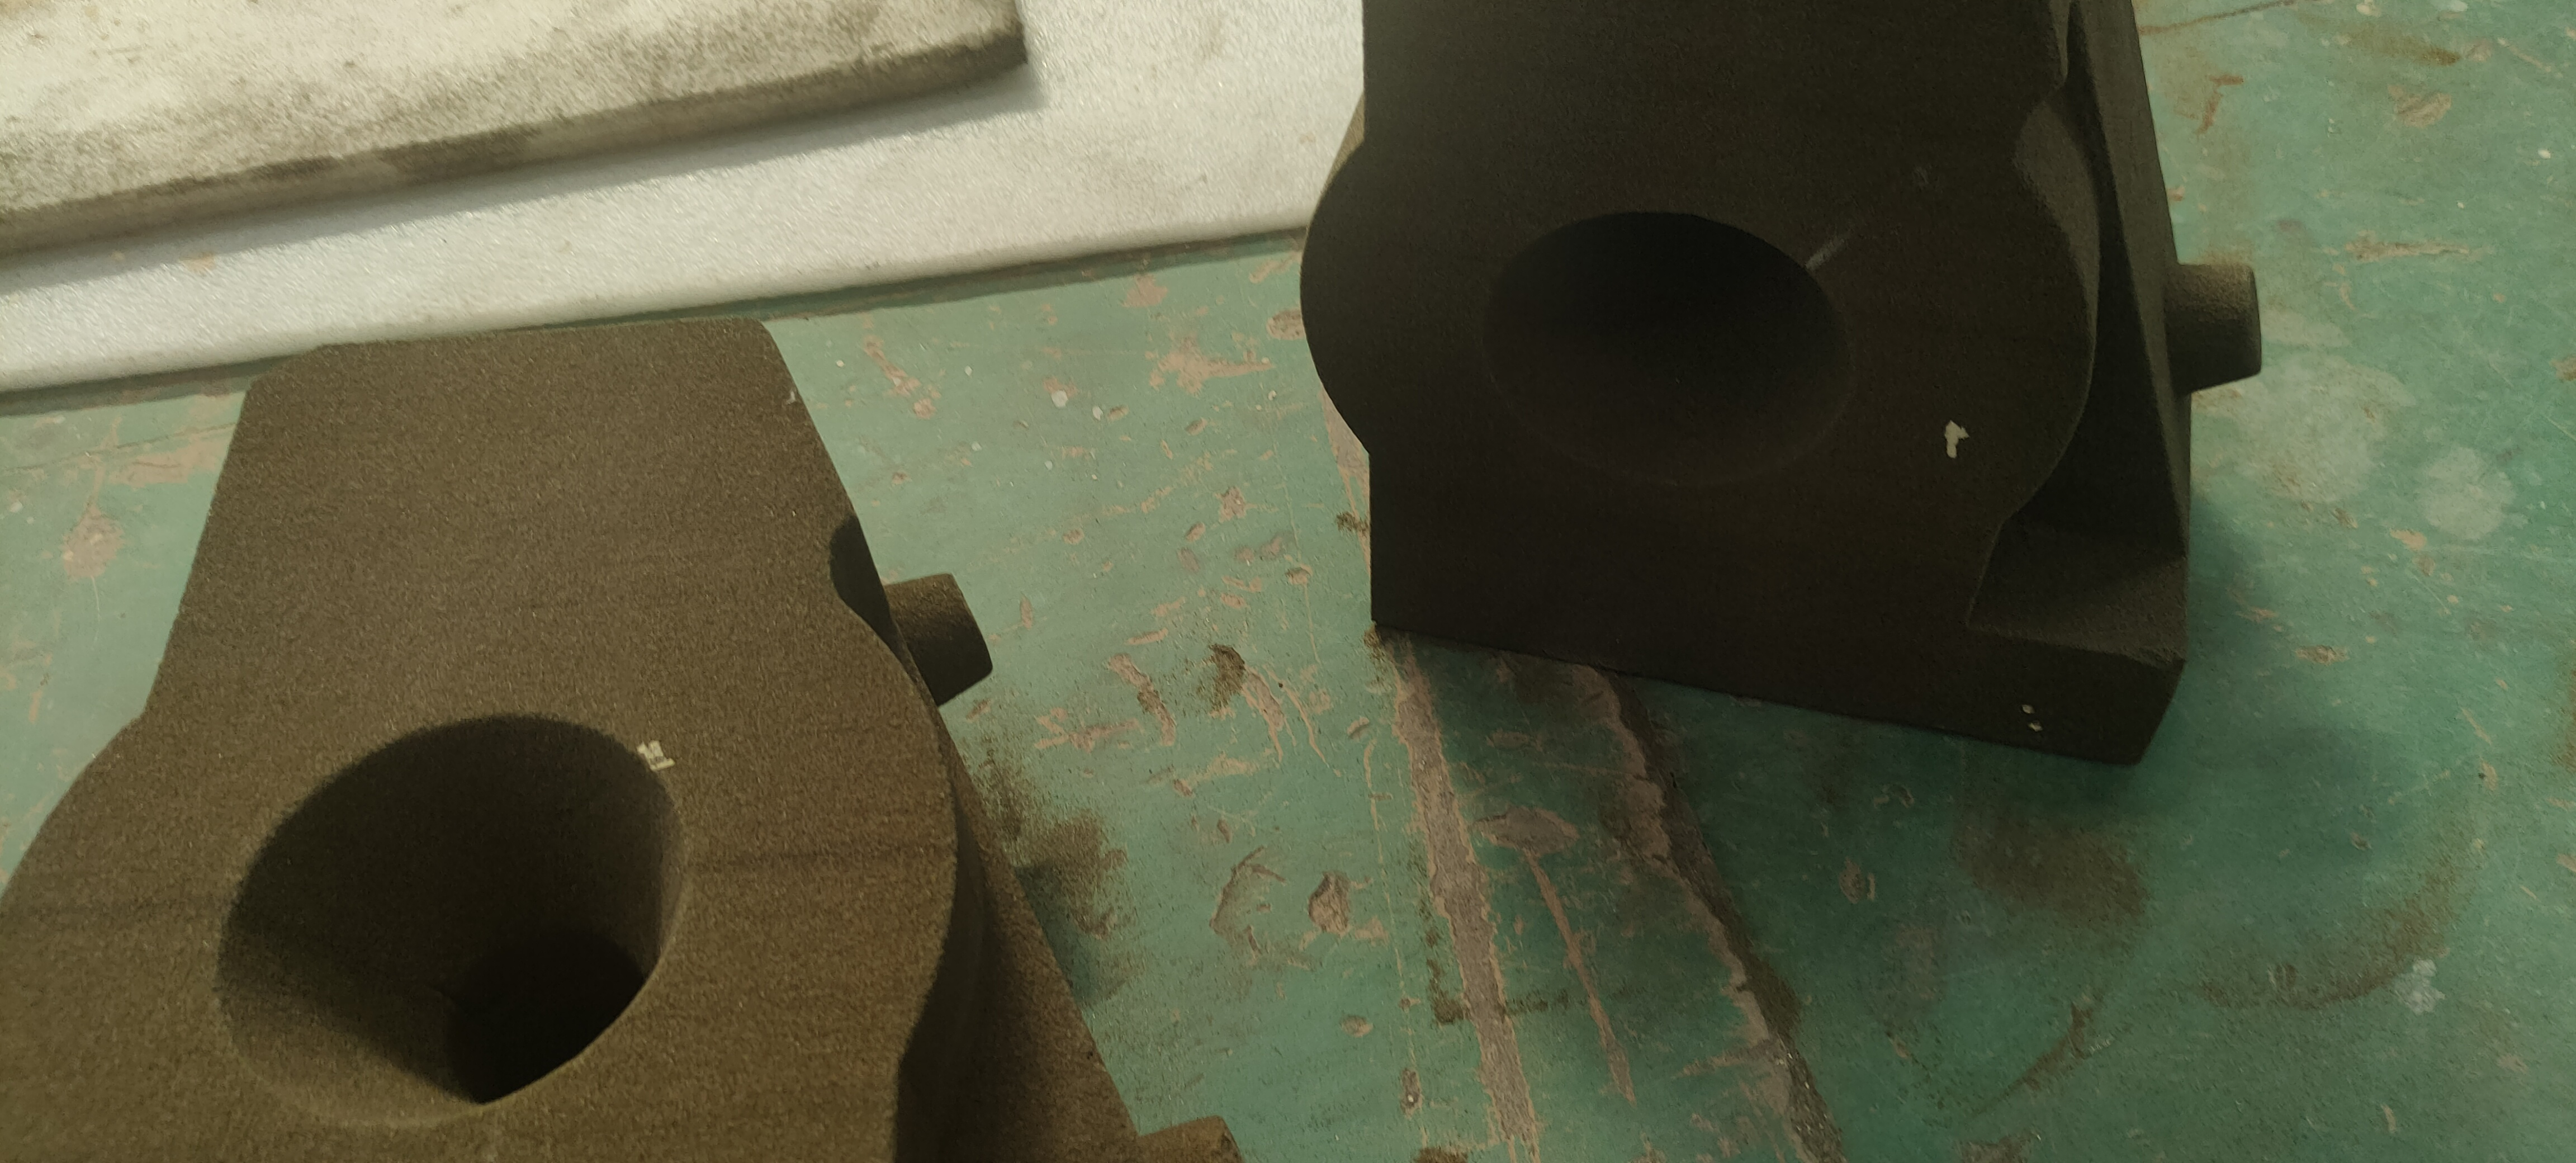pouring hole: (214, 711, 690, 1130), (1480, 210, 1848, 485)
